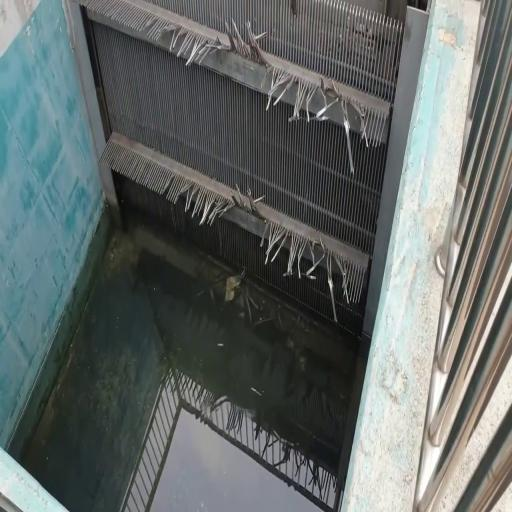rake_broken: (212, 10, 272, 78), (345, 94, 377, 180), (304, 79, 341, 142), (302, 232, 332, 298), (264, 73, 299, 127), (232, 182, 266, 232), (185, 23, 217, 70), (190, 171, 218, 224), (332, 247, 348, 328), (284, 226, 306, 284), (137, 17, 168, 52), (168, 15, 190, 64), (164, 177, 190, 213), (216, 189, 237, 228), (264, 228, 280, 263)
